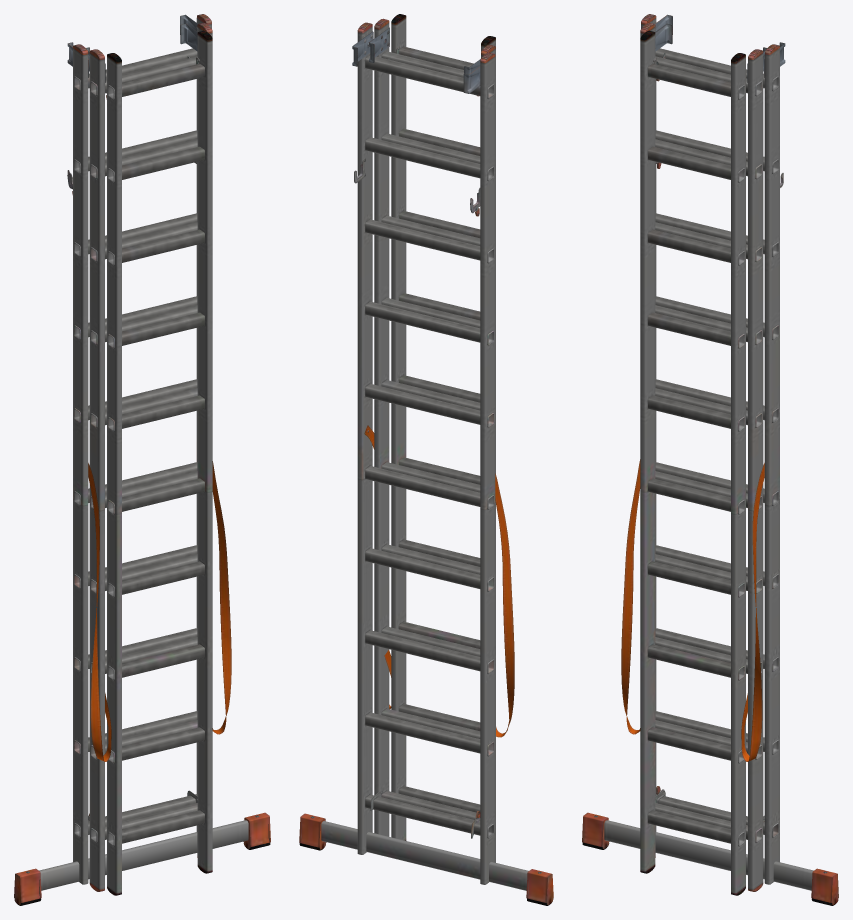
File: ladder_sectioned_01.gltf
3 renders of one model, left to right at view 1: azimuth 30°, elevation 25°; view 2: azimuth 150°, elevation 25°; view 3: azimuth 330°, elevation 25°, orthographic.
Visible parts, largest first — view 1: ladder_section_03, ladder_section_01, ladder_section_02, ladder_ribbon; view 2: ladder_section_01, ladder_section_02, ladder_section_03, ladder_ribbon; view 3: ladder_section_03, ladder_section_01, ladder_section_02, ladder_ribbon.
Part boxes in pixels (x1,y1,x2,y2): ladder_section_03: (106,30,212,895); ladder_section_01: (14,14,270,905); ladder_section_02: (86,23,212,891); ladder_ribbon: (88,461,231,761); ladder_section_01: (299,22,553,905); ladder_section_02: (369,18,495,862); ladder_section_03: (388,14,495,840); ladder_ribbon: (364,425,514,737); ladder_section_03: (640,30,745,895); ladder_section_01: (582,14,838,905); ladder_section_02: (640,23,766,891); ladder_ribbon: (621,459,764,761).
Bounding box in the file's own units: 0.6615 × 2.13 × 0.1776.
Materials: 1 (1 with a texture image).
